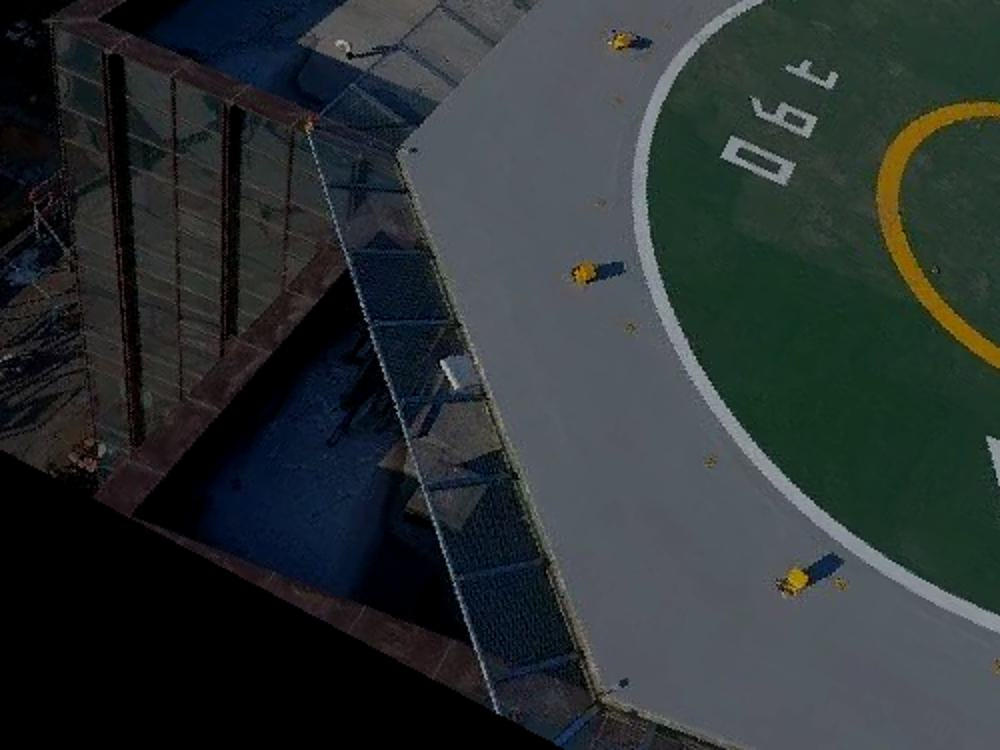Apron: (865, 69, 1000, 377)
